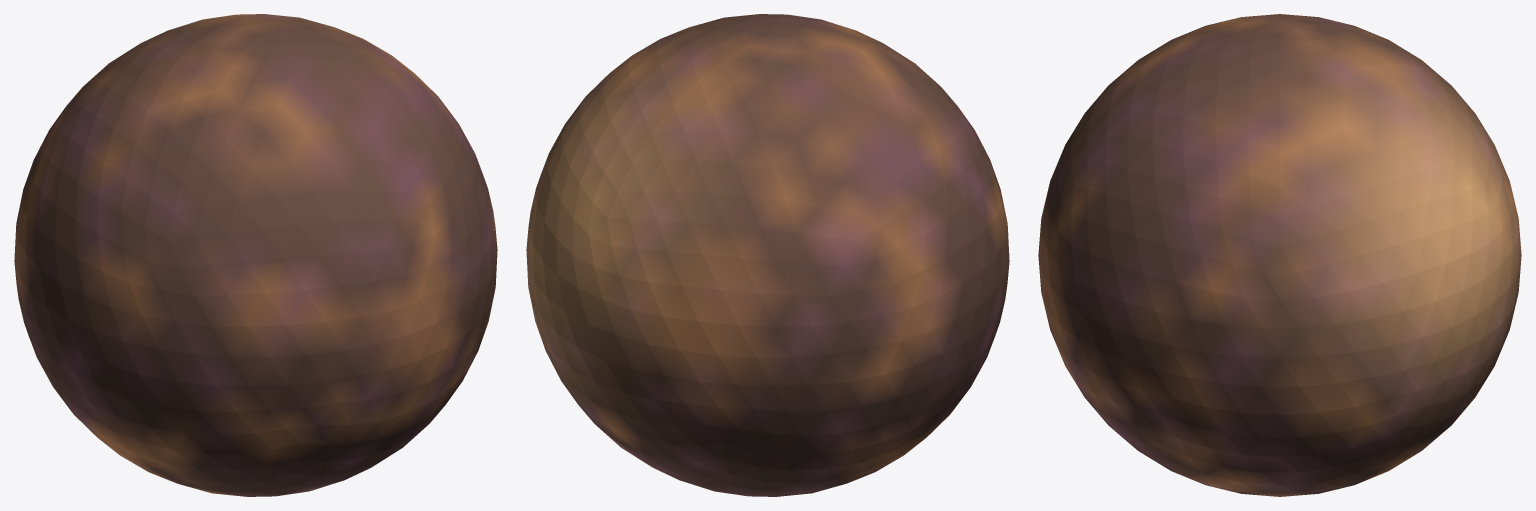
Rendered from sky_tarsis.glb.
The picture shows the model from 3 angles, left to right: view 1: azimuth 30°, elevation 25°; view 2: azimuth 150°, elevation 25°; view 3: azimuth 270°, elevation 25°; orthographic projection.
Parts seen in each view (by area): view 1: sky_tarsis; view 2: sky_tarsis; view 3: sky_tarsis.
Boxes of the visible parts, box(x1,y1,x2,y2) form: sky_tarsis: box(14, 14, 497, 496); sky_tarsis: box(526, 14, 1009, 496); sky_tarsis: box(1038, 14, 1521, 496).
Size of the model in its own units: 2 by 2 by 2.
